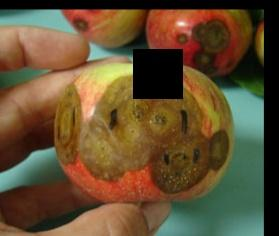rotten apple: (49, 60, 239, 207), (145, 10, 250, 75), (60, 10, 143, 50)
